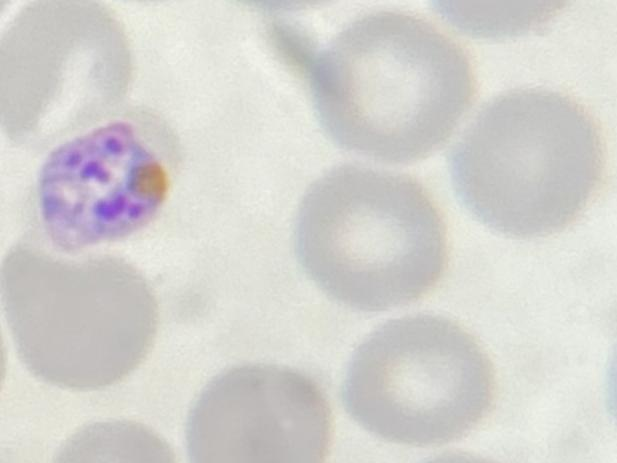Infected: (34, 118, 172, 242)
Uninfected: (306, 9, 480, 161), (444, 85, 598, 241), (4, 245, 162, 393), (295, 162, 447, 309), (3, 0, 139, 161), (331, 313, 494, 447), (181, 363, 335, 463)
